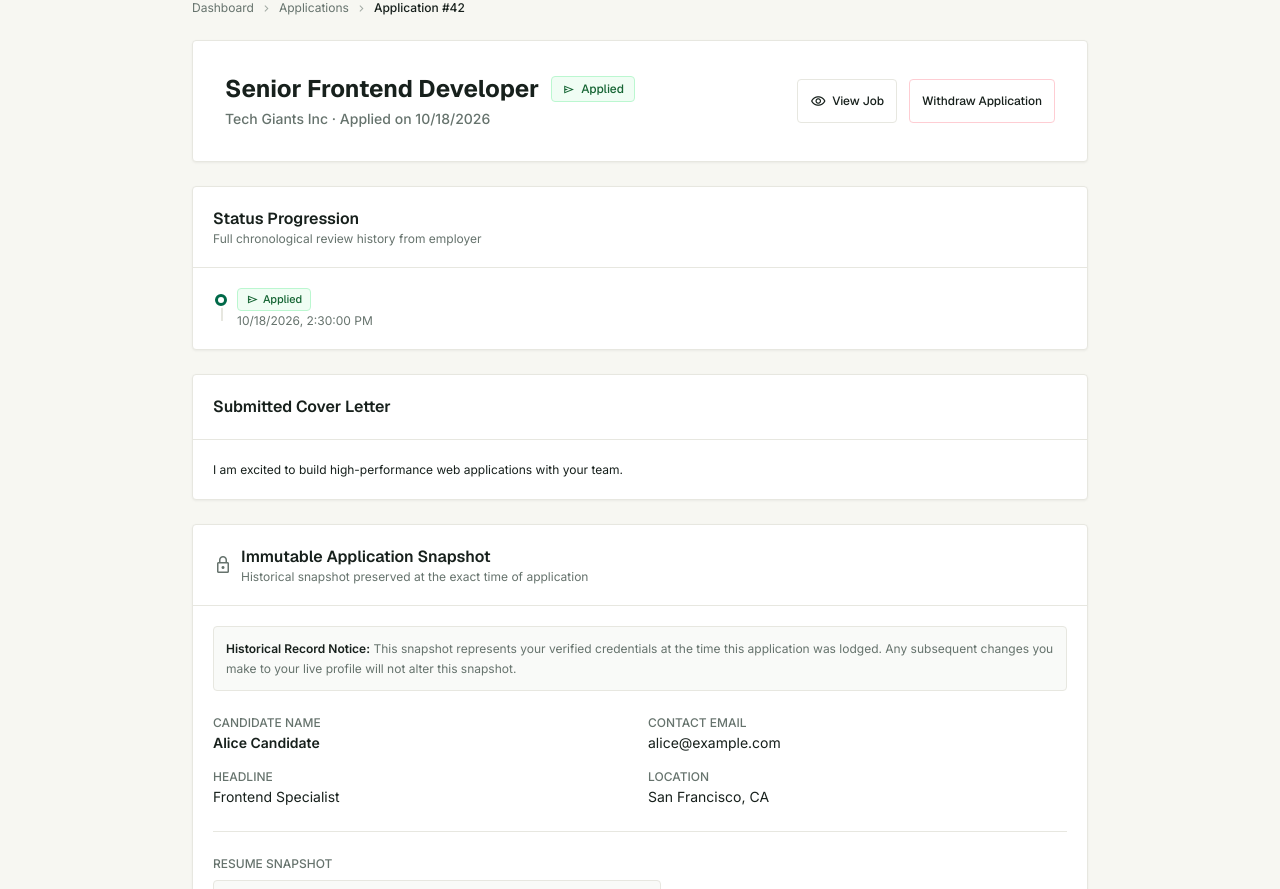
Test: ApplicationDetailPage › allows withdrawing an active application from the detail page
The width and height of the screenshot is (1280, 889).
Click the button "Withdraw Application".
click(982, 101)  # box x1=909 y1=79 x2=1055 y2=123
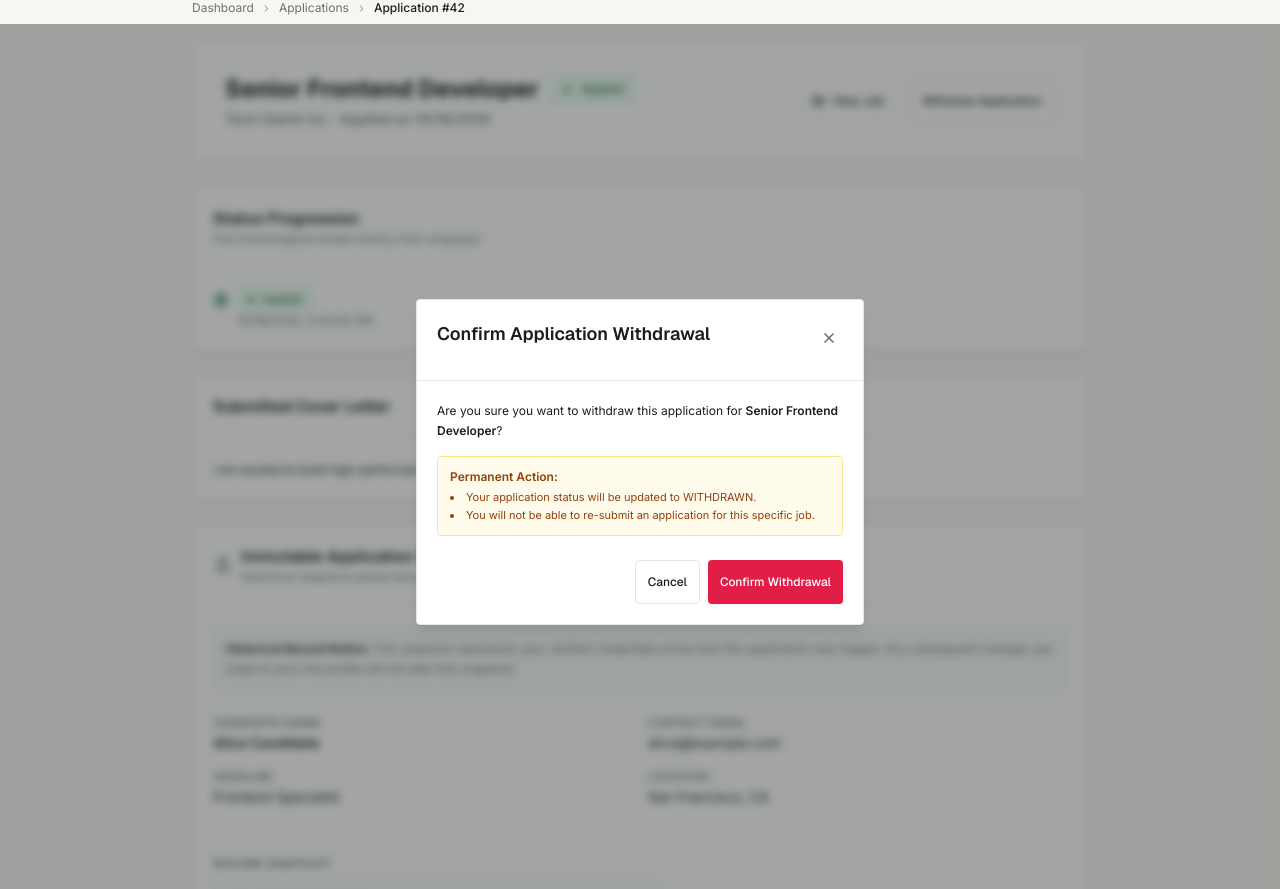
Expected: the heading "Confirm Application Withdrawal" is shown, x1=437 y1=320 x2=710 y2=348
Click the button "Confirm Withdrawal".
click(775, 582)  # box x1=708 y1=560 x2=843 y2=604
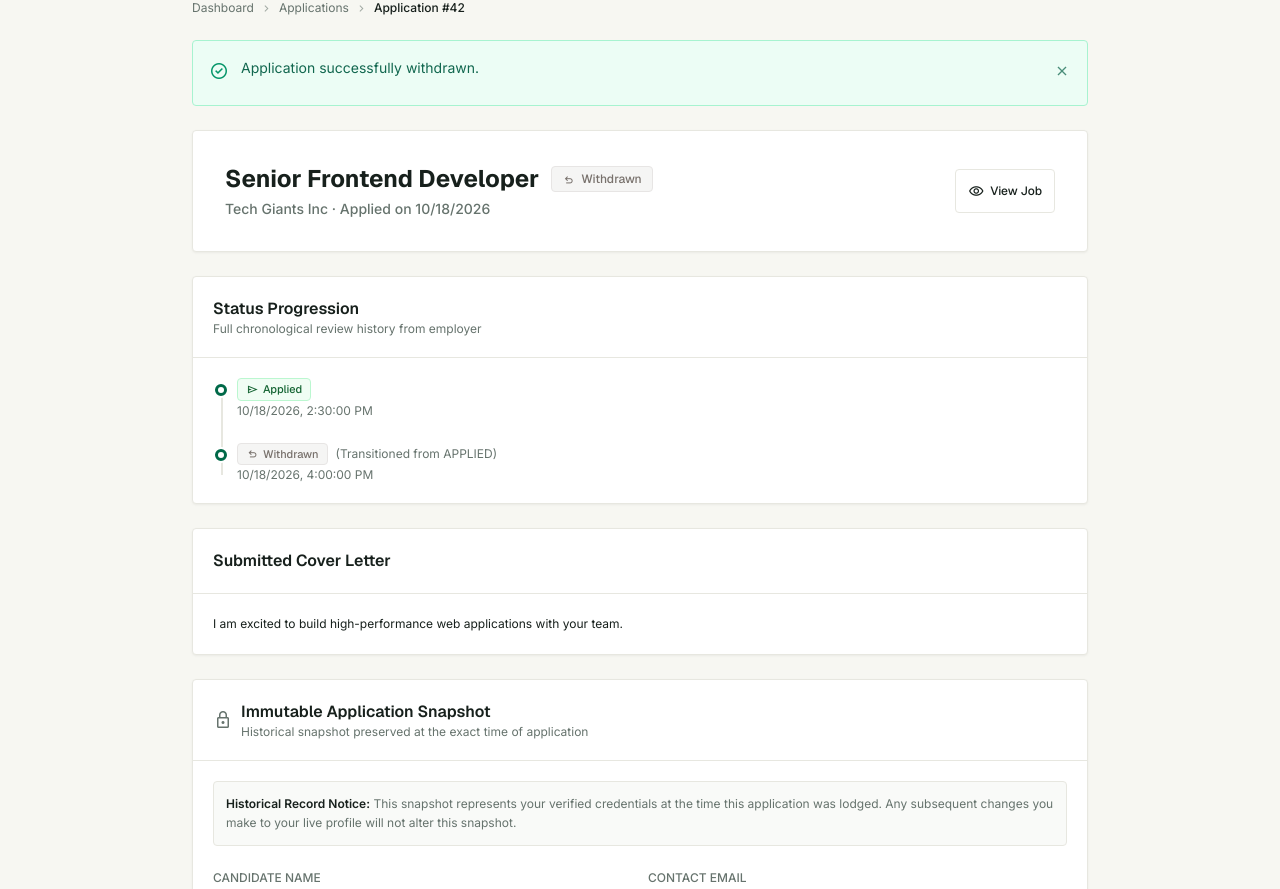
Expected: the text "Application successfully withdrawn." is shown, x1=241 y1=59 x2=479 y2=76
Expected: the text "Withdrawn" next to "Senior Frontend Developer" is shown, x1=581 y1=171 x2=642 y2=187
